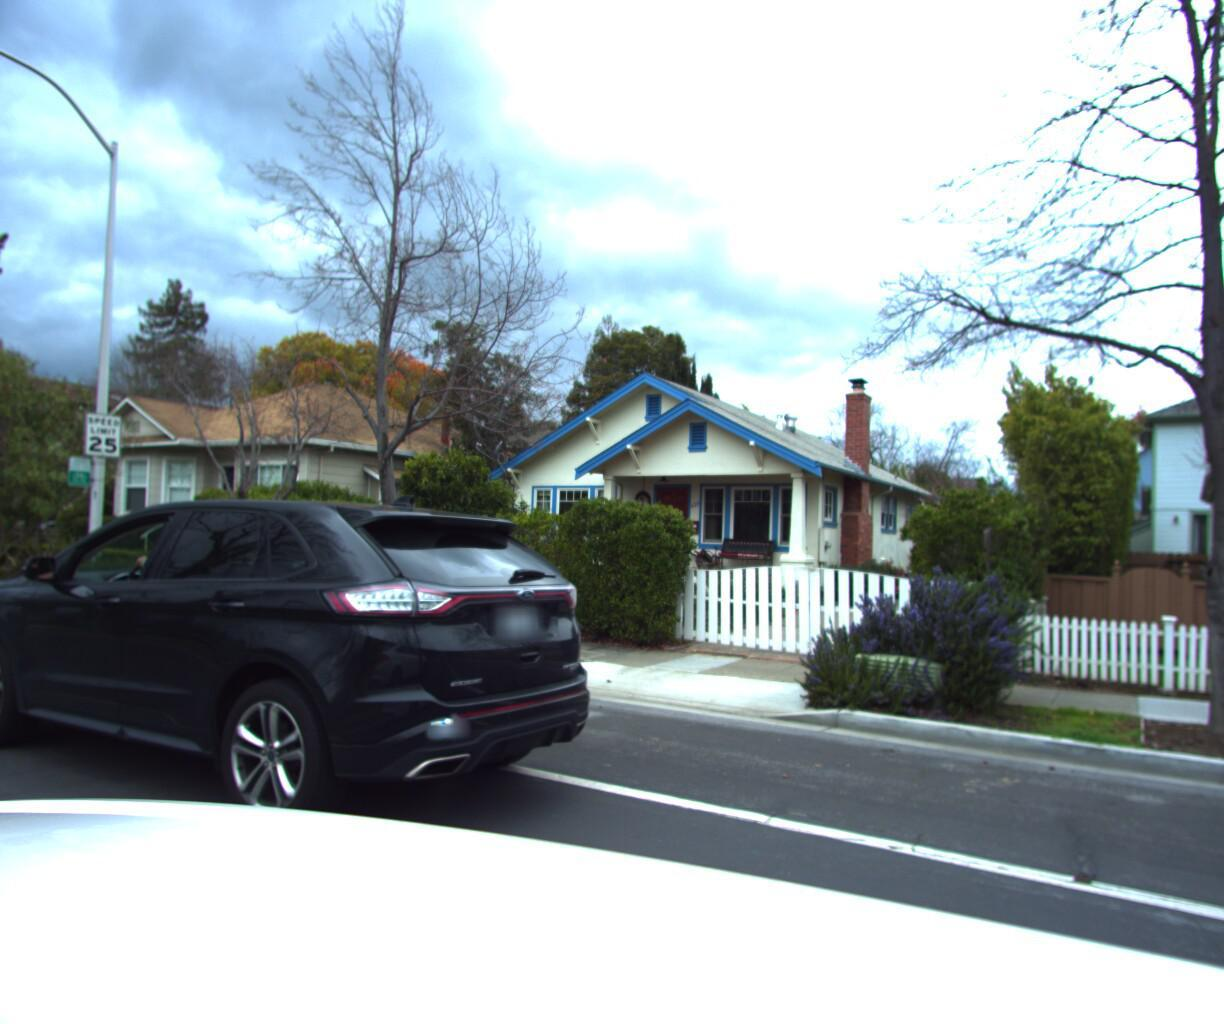car: (0, 494, 625, 882)
